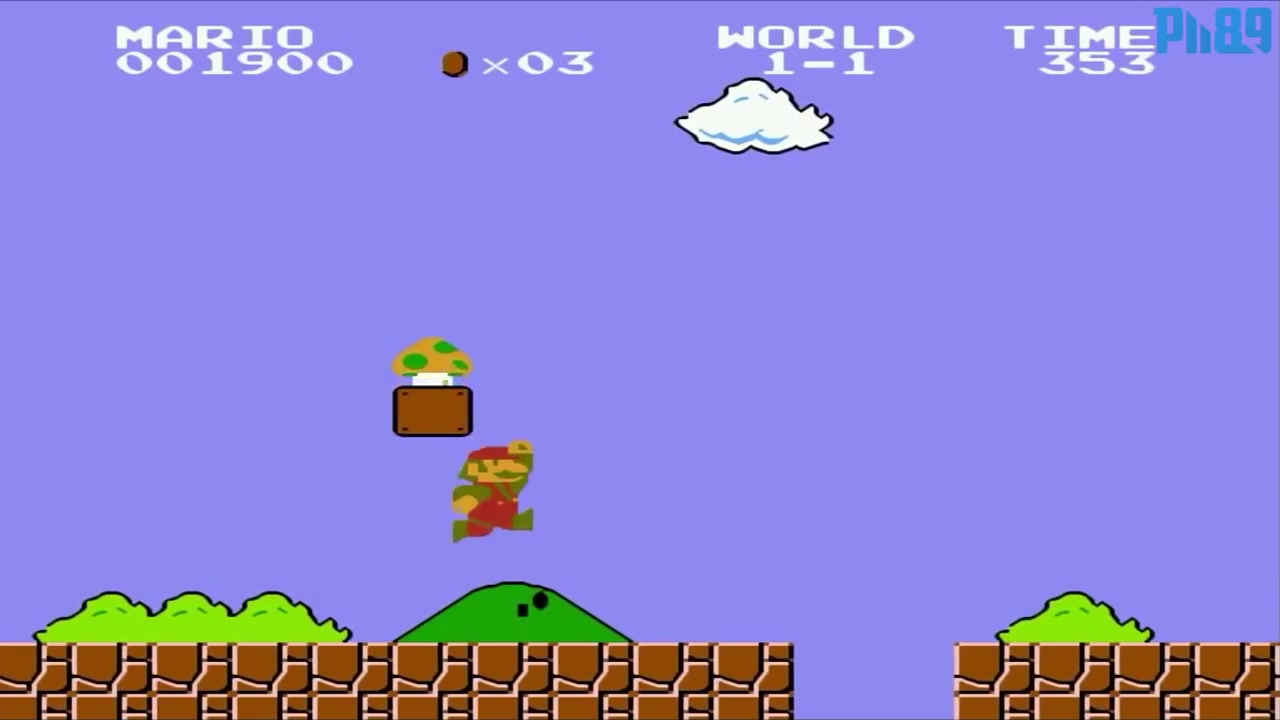mario: (448, 438, 540, 542)
